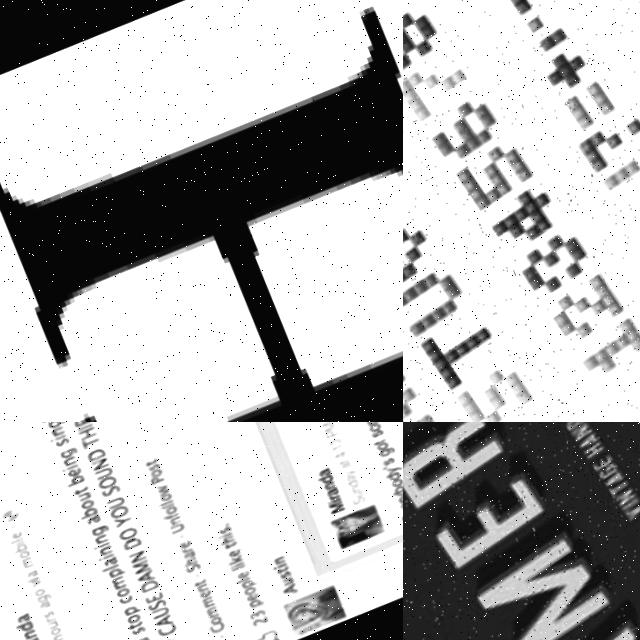0: (338, 444, 353, 455)
1: (574, 306, 640, 377)
2: (542, 260, 634, 345)
3: (512, 216, 603, 300)
4: (478, 171, 574, 259)
5: (453, 128, 544, 210)
6: (419, 82, 515, 169)
7: (403, 39, 482, 124)
8: (403, 0, 453, 79)
A: (159, 608, 180, 625), (141, 565, 162, 582), (22, 607, 40, 623), (286, 577, 304, 591), (90, 510, 107, 524), (109, 551, 125, 565), (322, 459, 337, 472), (44, 597, 58, 609), (330, 480, 344, 492), (188, 545, 202, 556), (31, 566, 44, 577), (31, 632, 48, 640), (350, 467, 362, 477), (346, 454, 358, 464)
B: (68, 468, 90, 486), (82, 502, 104, 518), (16, 539, 34, 553), (395, 476, 403, 489)
C: (163, 618, 185, 634), (215, 615, 233, 631), (123, 590, 140, 602)
D: (90, 442, 112, 460), (127, 531, 149, 548), (145, 574, 165, 590), (22, 617, 41, 632), (321, 466, 339, 481), (388, 463, 403, 477), (350, 472, 364, 484)
E: (150, 587, 170, 600), (71, 463, 89, 477), (15, 526, 29, 538), (183, 534, 197, 546), (252, 586, 266, 598), (204, 584, 218, 595), (233, 542, 247, 553), (243, 565, 255, 575), (225, 632, 239, 640)
F: (168, 507, 184, 517)
G: (63, 442, 83, 457), (96, 520, 115, 535), (382, 438, 400, 453), (43, 589, 60, 602), (51, 422, 70, 427)
H: (0, 7, 403, 422), (81, 422, 102, 439), (186, 551, 204, 564), (223, 528, 241, 541), (54, 629, 71, 640)
I: (65, 459, 84, 471), (53, 428, 72, 440), (103, 548, 121, 559), (99, 537, 116, 547), (222, 526, 238, 536), (331, 490, 347, 500), (17, 536, 32, 545), (235, 556, 250, 565), (32, 572, 47, 581), (278, 557, 292, 565), (80, 422, 97, 428)
K: (232, 549, 249, 563)
L: (106, 559, 125, 570), (14, 533, 30, 543), (165, 498, 179, 507), (237, 559, 251, 567), (242, 571, 256, 579), (164, 496, 178, 503)
M: (137, 555, 158, 572), (332, 494, 351, 510), (116, 570, 133, 587), (26, 552, 42, 567), (211, 600, 227, 615), (206, 590, 222, 604), (324, 422, 341, 427)
N: (134, 544, 153, 560), (95, 453, 114, 468), (29, 624, 46, 639), (104, 540, 121, 554), (67, 451, 83, 465), (55, 423, 69, 436), (100, 529, 114, 542), (327, 474, 342, 485), (279, 550, 293, 561), (356, 477, 368, 489), (202, 578, 215, 589), (175, 511, 187, 521)
O: (101, 470, 123, 488), (124, 520, 145, 538), (114, 499, 135, 517), (84, 493, 102, 508), (131, 608, 148, 622), (120, 581, 137, 595), (38, 583, 53, 595), (215, 610, 229, 622), (169, 500, 183, 512), (154, 464, 168, 476), (248, 580, 262, 592), (380, 433, 394, 445), (164, 487, 178, 499), (23, 546, 36, 558), (56, 623, 68, 634), (395, 470, 403, 481), (371, 422, 387, 426), (144, 638, 160, 640)
P: (129, 599, 149, 614), (113, 562, 132, 576), (254, 590, 272, 604), (154, 469, 171, 483), (328, 422, 344, 434), (247, 573, 262, 585)
R: (333, 486, 346, 495), (52, 612, 63, 619), (187, 542, 198, 549), (76, 422, 96, 425), (175, 636, 189, 640)
S: (105, 479, 127, 496), (152, 593, 174, 609), (190, 557, 208, 570), (136, 621, 153, 633), (58, 434, 75, 446), (357, 488, 372, 500), (387, 449, 401, 461), (223, 520, 238, 531), (374, 422, 389, 433), (152, 458, 165, 468), (48, 606, 60, 616), (285, 564, 297, 574)
T: (86, 430, 107, 447), (133, 614, 150, 627), (78, 481, 94, 493), (149, 453, 163, 464), (341, 450, 356, 460), (229, 535, 243, 545), (281, 559, 295, 569), (198, 574, 212, 584), (378, 431, 391, 440)
U: (110, 491, 132, 508), (156, 600, 177, 617), (99, 461, 120, 478), (172, 517, 191, 532), (82, 488, 96, 499), (141, 631, 158, 640), (288, 570, 300, 582), (357, 482, 370, 493), (53, 617, 65, 627)
V: (35, 574, 48, 586)
W: (160, 478, 176, 492)
Y: (117, 509, 139, 525), (350, 460, 364, 472), (391, 456, 403, 468)
